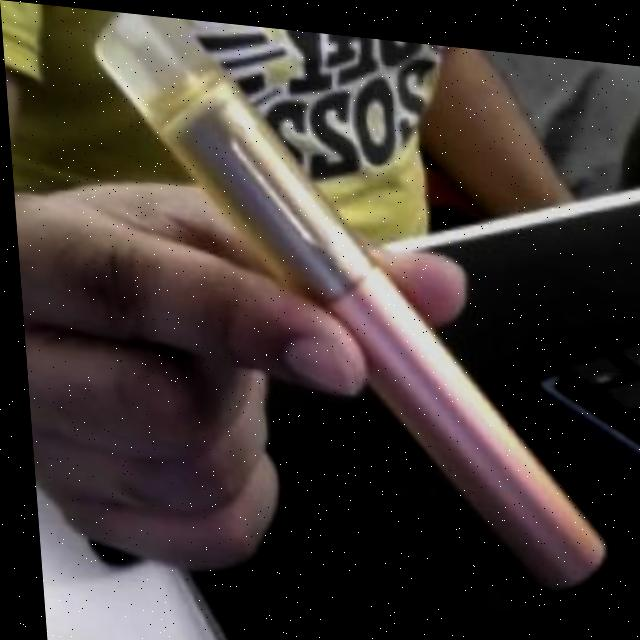vape: (91, 7, 601, 577)
